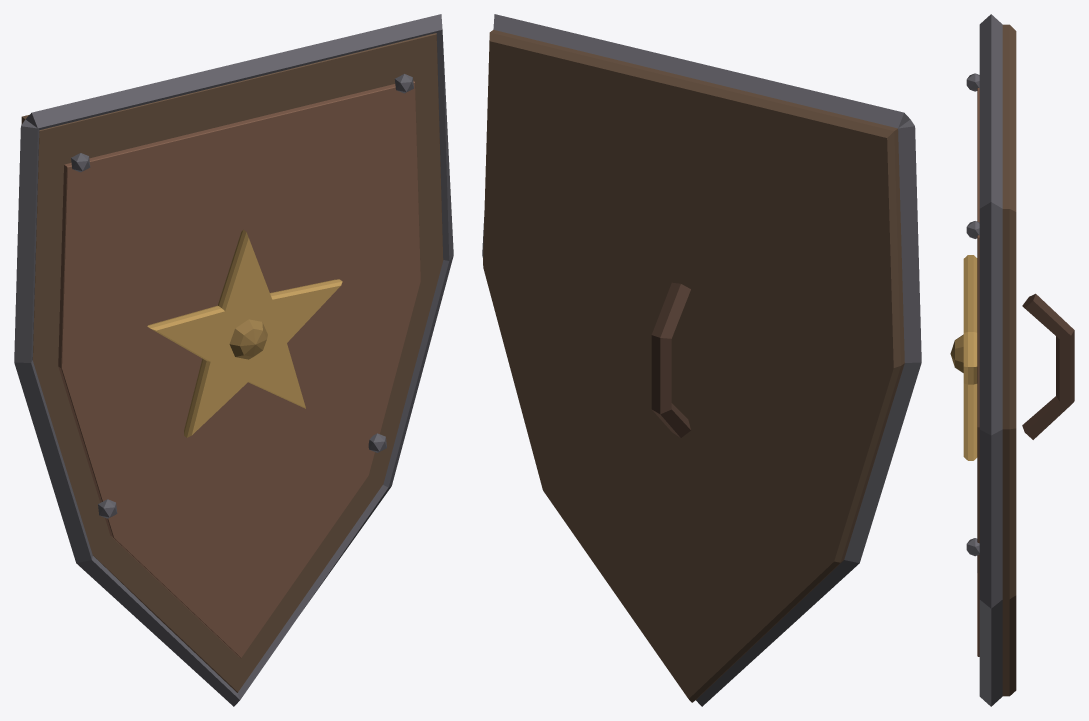
The model's file is shield_badge.glb.
3 views of the same model, side by side, from view 1: azimuth 30°, elevation 25°; view 2: azimuth 150°, elevation 25°; view 3: azimuth 270°, elevation 25° (orthographic). The views are drawn at different scales.
Parts seen in each view (by area): view 1: shield_badge; view 2: shield_badge; view 3: shield_badge.
Part boxes in pixels (box(x1,y1,x2,y2)): shield_badge: box(14, 14, 453, 706); shield_badge: box(482, 14, 921, 706); shield_badge: box(950, 14, 1074, 706).
Size of the model in its own units: 0.6517 by 0.912 by 0.1706.
